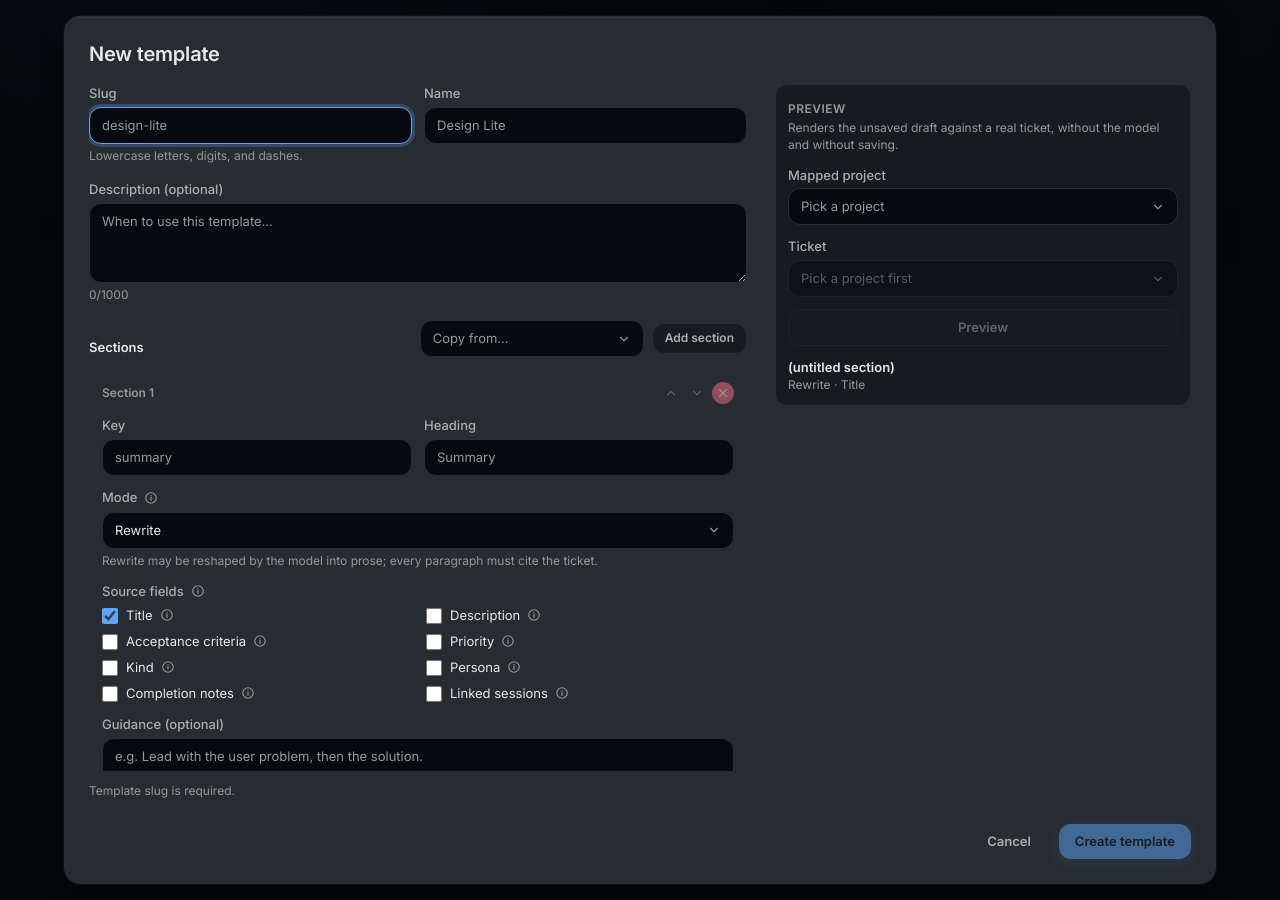
TemplateEditorDialog › copies sections from a built-in template
Click the button with aria-label "Copy sections from a template" at [532, 338], box [420,320,644,357]
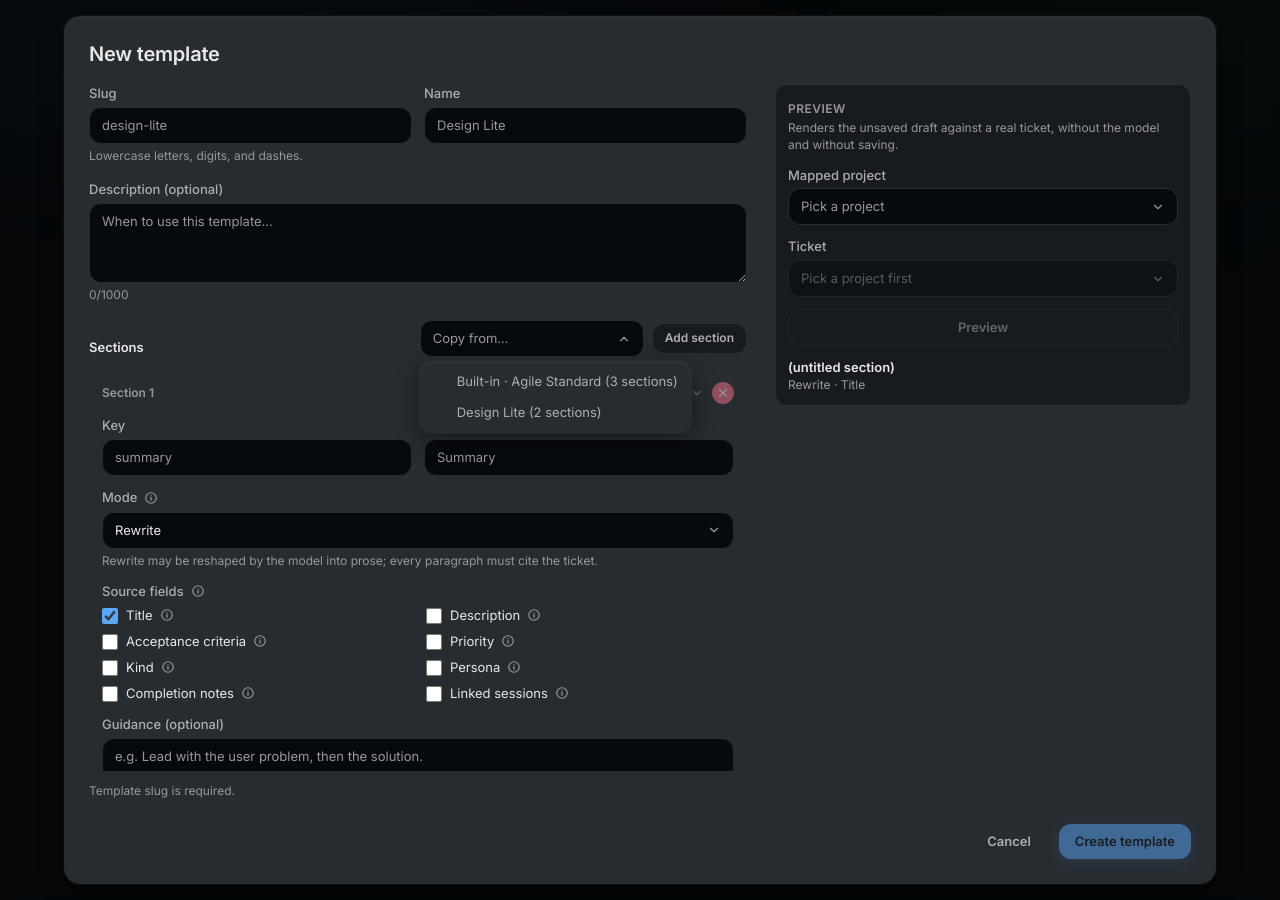
Check: the option "Design Lite (2 sections)" is shown, box [457,404,602,420]
Click the option "Built-in · Agile Standard (3 sections)" at [567, 381], box [457,373,678,389]
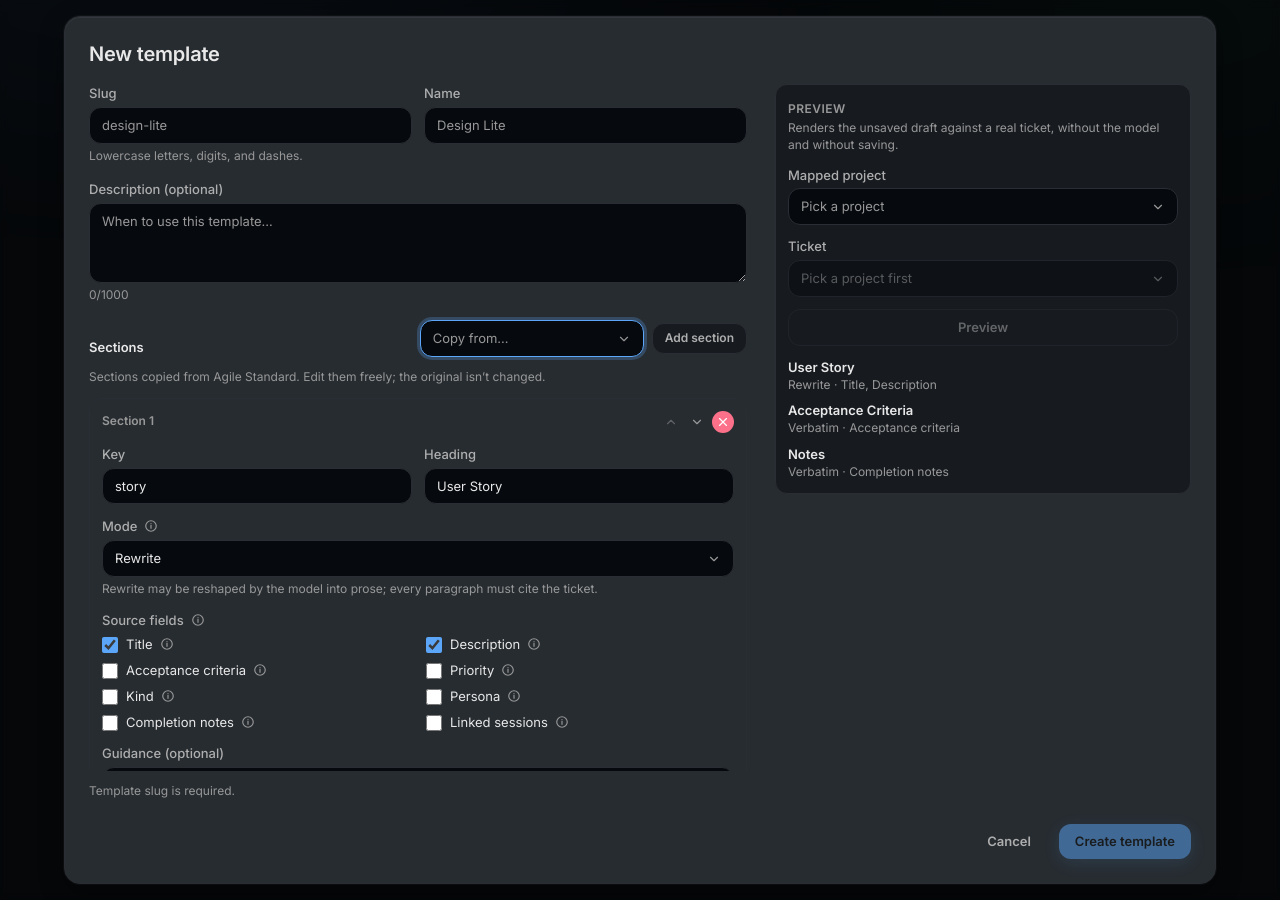
Check: the field showing "User Story" is shown, box [424,468,734,504]
Check: the checkbox labelled "Description" is checked, box [426,637,442,653]
Check: the message shows "Sections copied from Agile Standard", box [89,369,546,384]
